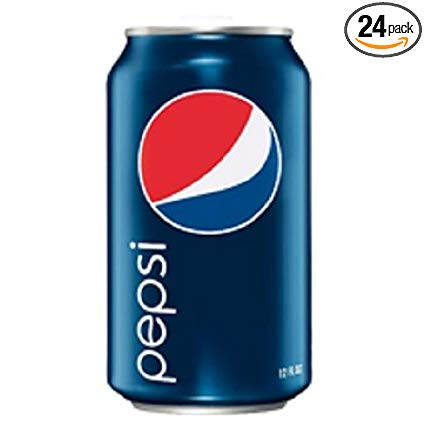pepsi: (132, 86, 282, 235), (134, 86, 282, 235), (132, 90, 282, 235)
